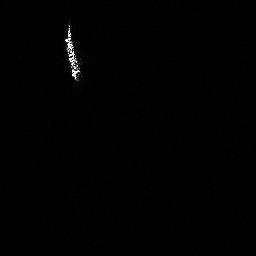ship: (61, 18, 86, 84)
